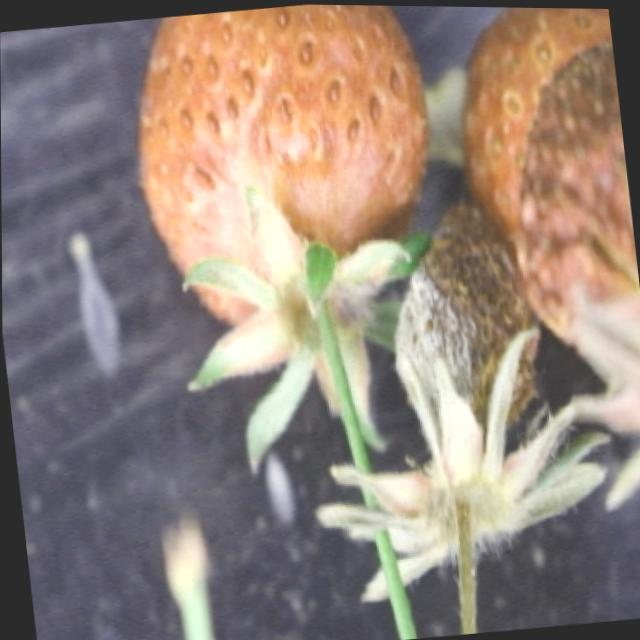Gray Mold: (324, 198, 552, 542)
